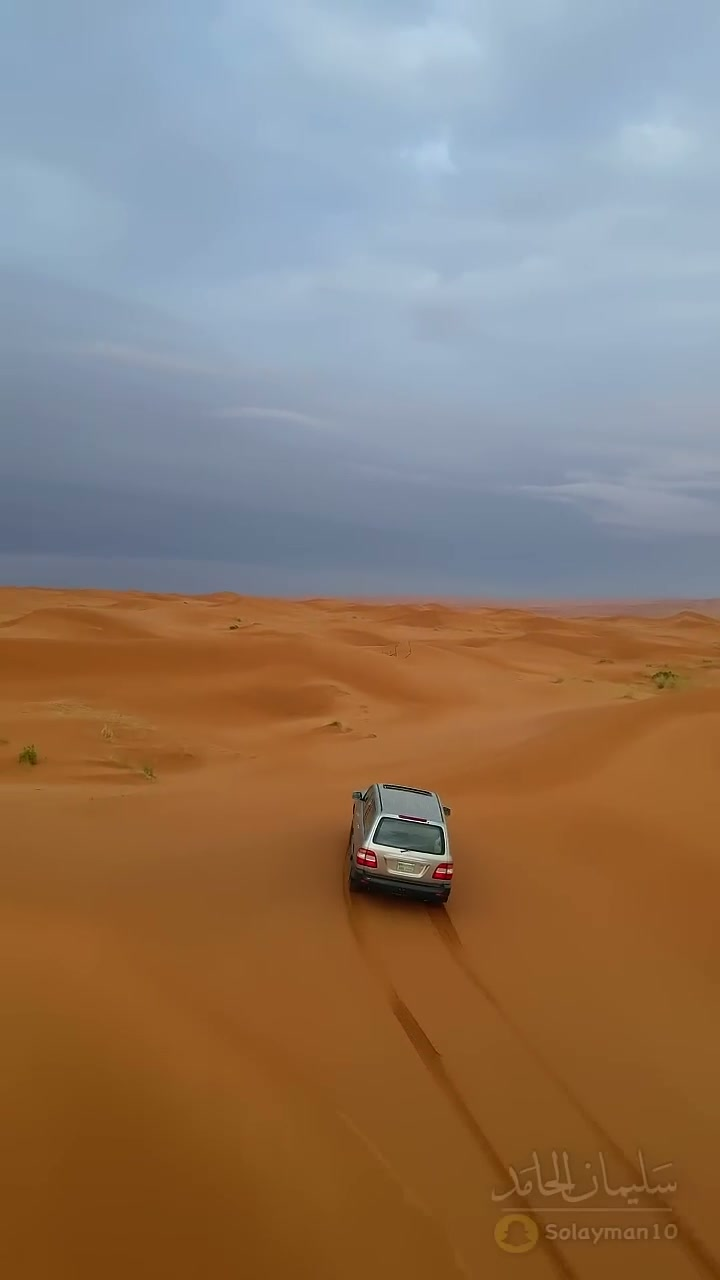vehicle_track: (426, 907, 640, 1181), (343, 875, 506, 1179)
